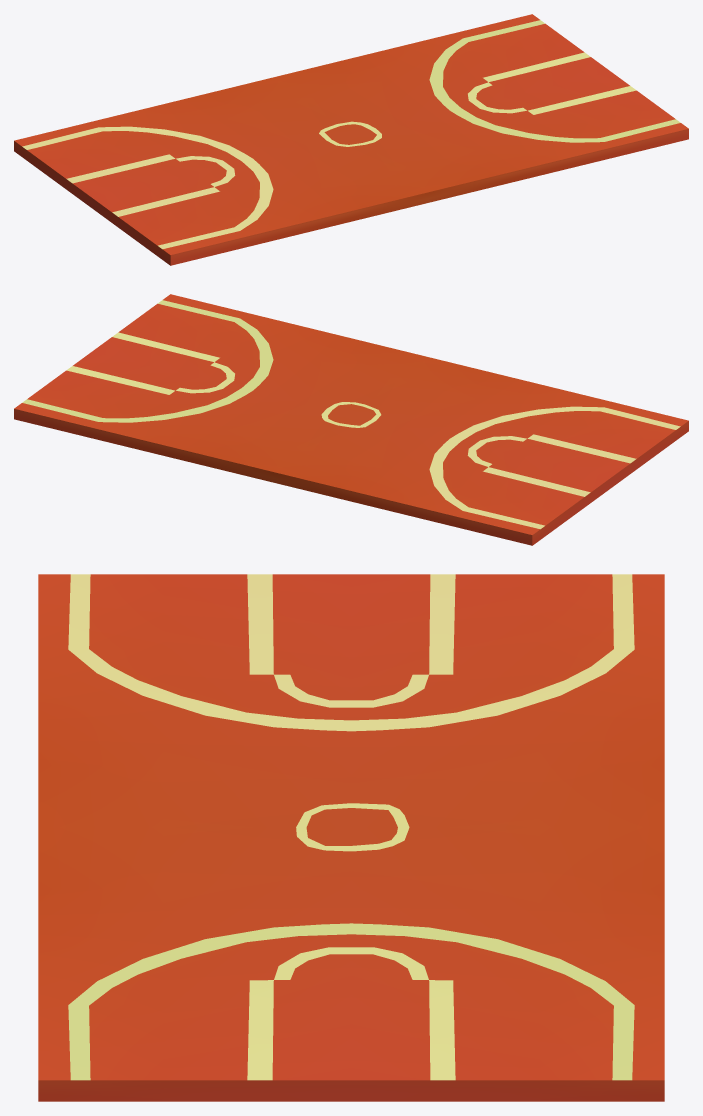
The model's file is saha.fbx.
The picture shows the model from 3 angles, top to bottom: view 1: azimuth 30°, elevation 25°; view 2: azimuth 150°, elevation 25°; view 3: azimuth 270°, elevation 25°; orthographic projection. The views are drawn at different scales.
Parts seen in each view (by area): view 1: Cube; view 2: Cube; view 3: Cube.
Part boxes in pixels (<box>): Cube: <box>14,14,688,265</box>; Cube: <box>14,294,688,545</box>; Cube: <box>38,574,664,1101</box>.
Bounding box in the file's own units: 21147 × 414 × 11057.
